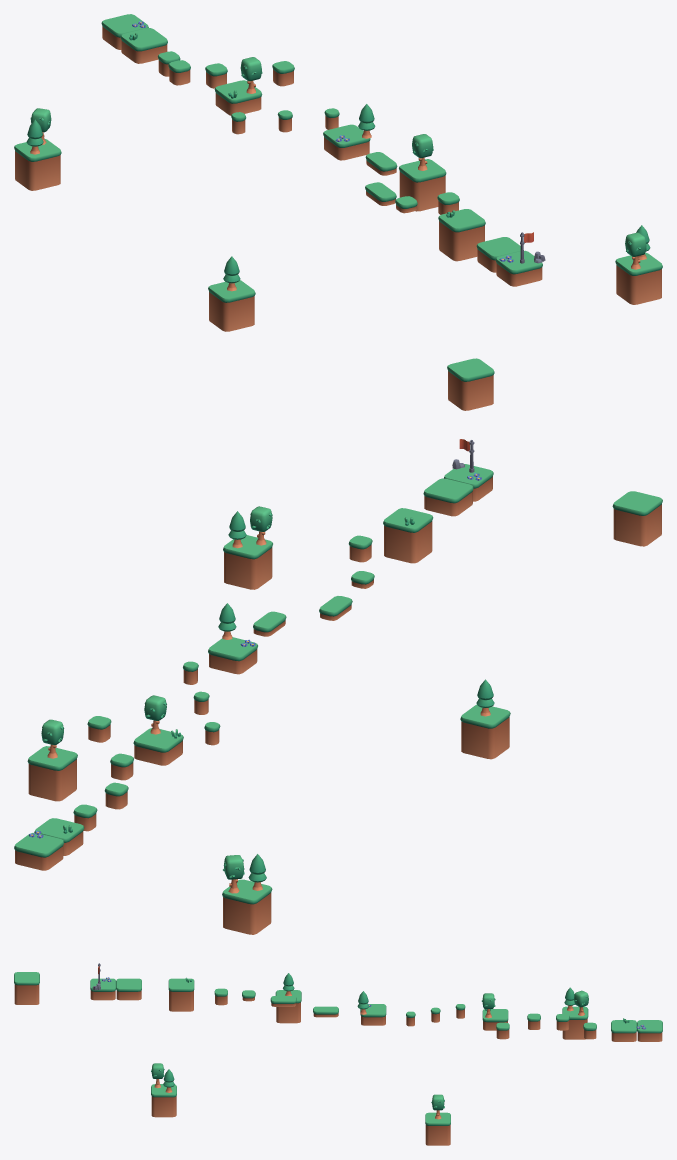
The model's file is level.glb.
3 views of the same model, one above another, from view 1: azimuth 30°, elevation 25°; view 2: azimuth 150°, elevation 25°; view 3: azimuth 270°, elevation 25° (orthographic). The views are drawn at different scales.
Visible parts, largest first — view 1: block-grass-large-tall (×6), block-grass-large (×6); view 2: block-grass-large-tall (×6), block-grass-large (×6); view 3: block-grass-large-tall (×6), block-grass-large (×6), block-grass-low-long.
Part boxes in pixels (x1=…): block-grass-large-tall (×6): x1=14, y1=138, x2=662, y2=410; block-grass-large (×6): x1=101, y1=14, x2=542, y2=286; block-grass-large-tall (×6): x1=27, y1=491, x2=662, y2=934; block-grass-large (×6): x1=14, y1=464, x2=493, y2=870; block-grass-large-tall (×6): x1=14, y1=972, x2=588, y2=1145; block-grass-large (×6): x1=90, y1=978, x2=662, y2=1041; block-grass-low-long: x1=313, y1=1006, x2=338, y2=1017.
Bounding box in the file's own units: 22.08 × 11.3 × 52.08.
Materials: 1 (1 with a texture image).
